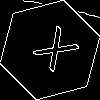X: (25, 25, 81, 81)
